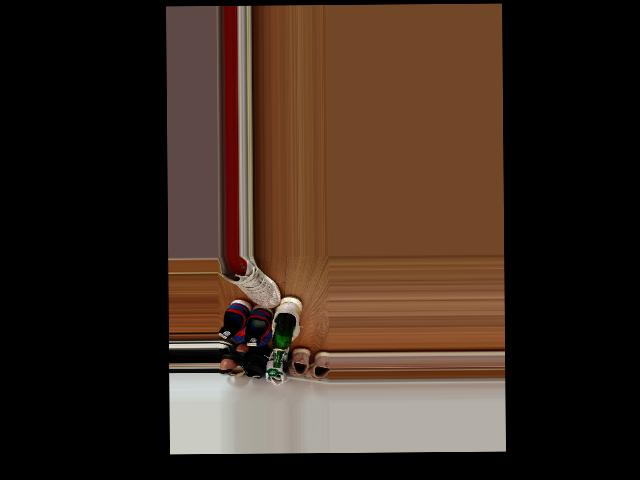beer: (271, 312, 296, 367)
